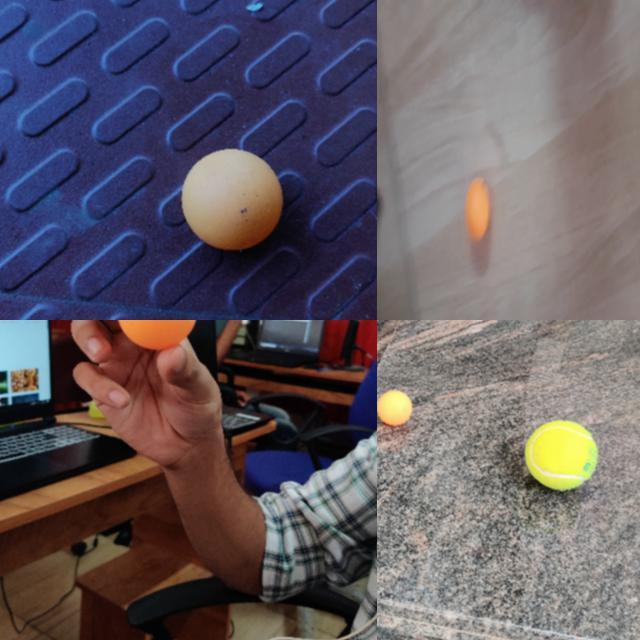ping-pong-ball: (178, 149, 280, 249), (118, 320, 197, 348), (466, 178, 490, 239), (377, 389, 412, 426)
